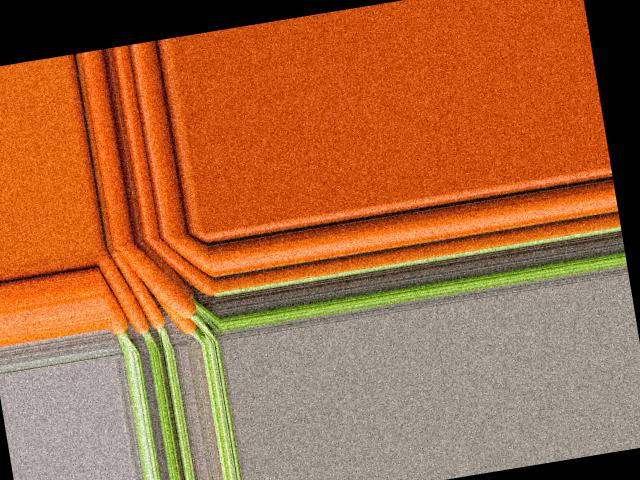carrot: (152, 230, 214, 303)
